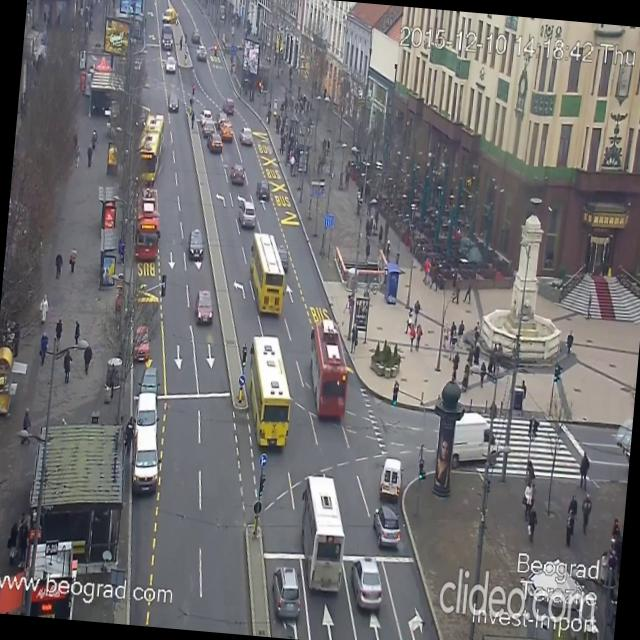bus: (293, 472, 350, 593), (241, 332, 297, 450), (304, 316, 352, 422), (245, 230, 289, 316), (134, 106, 168, 186), (132, 186, 164, 262)
car: (436, 405, 498, 465), (126, 431, 162, 489), (268, 564, 303, 620), (348, 556, 384, 610), (370, 504, 402, 549), (378, 446, 402, 498), (133, 395, 159, 433), (193, 288, 215, 324), (134, 322, 150, 361), (137, 368, 156, 396), (188, 230, 202, 260), (237, 200, 253, 226), (225, 166, 245, 185), (208, 133, 226, 154), (162, 3, 176, 26), (256, 181, 270, 203), (159, 28, 173, 48), (240, 125, 253, 144), (166, 91, 178, 110), (220, 124, 232, 141), (200, 122, 215, 135), (218, 112, 228, 131), (222, 100, 234, 114), (165, 60, 176, 74), (203, 109, 212, 123)
